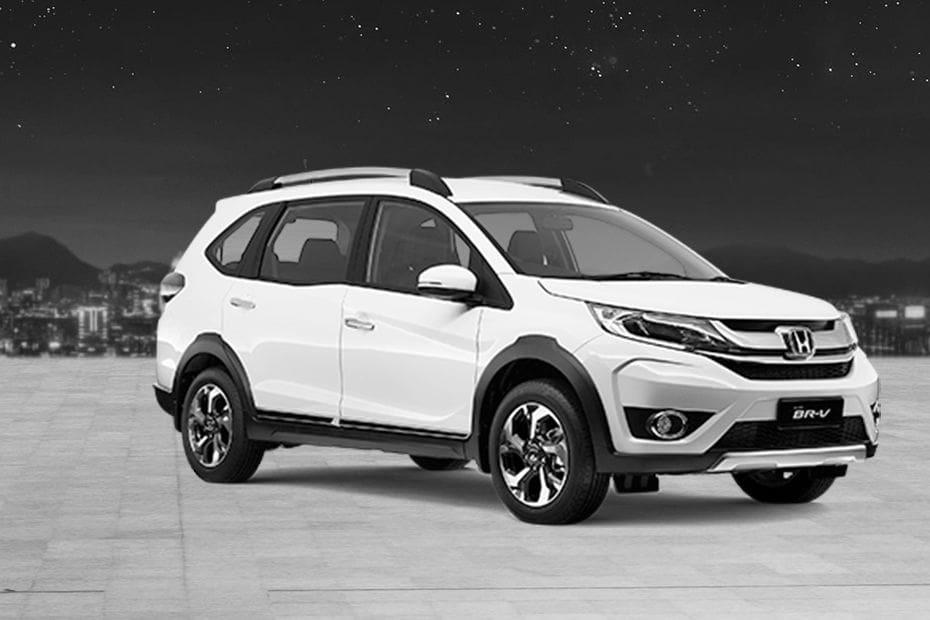Car hood: (533, 271, 846, 323)
Driver-s door - -F-R-: (342, 179, 475, 444)
Fender - -F-R-: (469, 267, 606, 460)
Fender - -R-L-: (163, 272, 221, 387)
Front bumper: (577, 350, 890, 483)
Headlight - -L-: (828, 301, 863, 349)
Headlight - -R-: (583, 298, 735, 358)
Passenger-s door - -R-R-: (213, 179, 343, 427)
Rear bumper: (138, 323, 187, 430)
Rear light - -R-: (153, 267, 190, 315)
Side bumper - -R-: (233, 405, 487, 471)
Side mirror - -R-: (412, 259, 482, 309)
